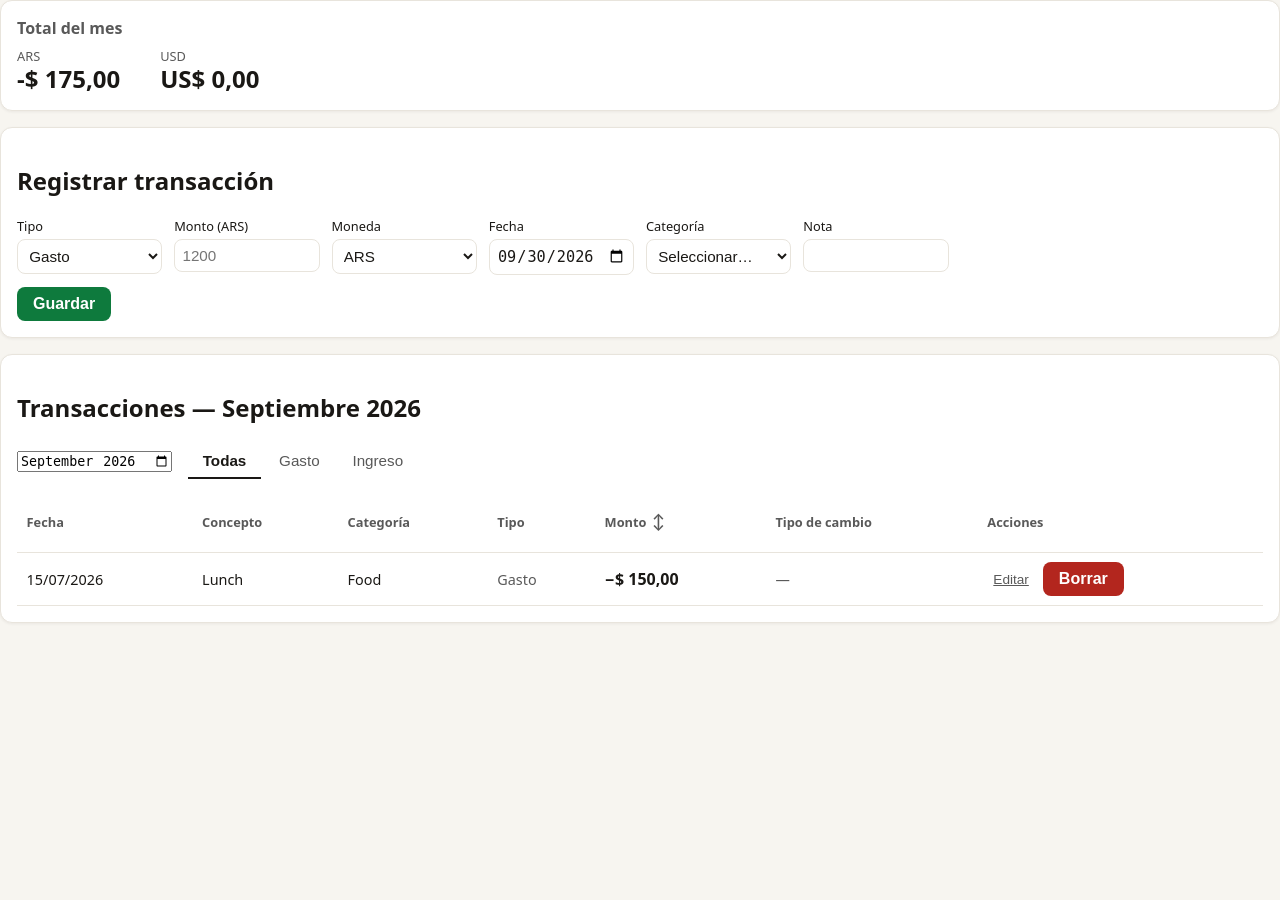
Test: TransactionsPage › adds the created transaction to the list immediately and reloads in the background (ET-1)
The width and height of the screenshot is (1280, 900).
Expected: the text "−$ 150,00" is shown, [605, 568, 679, 590]
In the field with test id "amount": (247, 255) [174, 239, 320, 272], type "25"
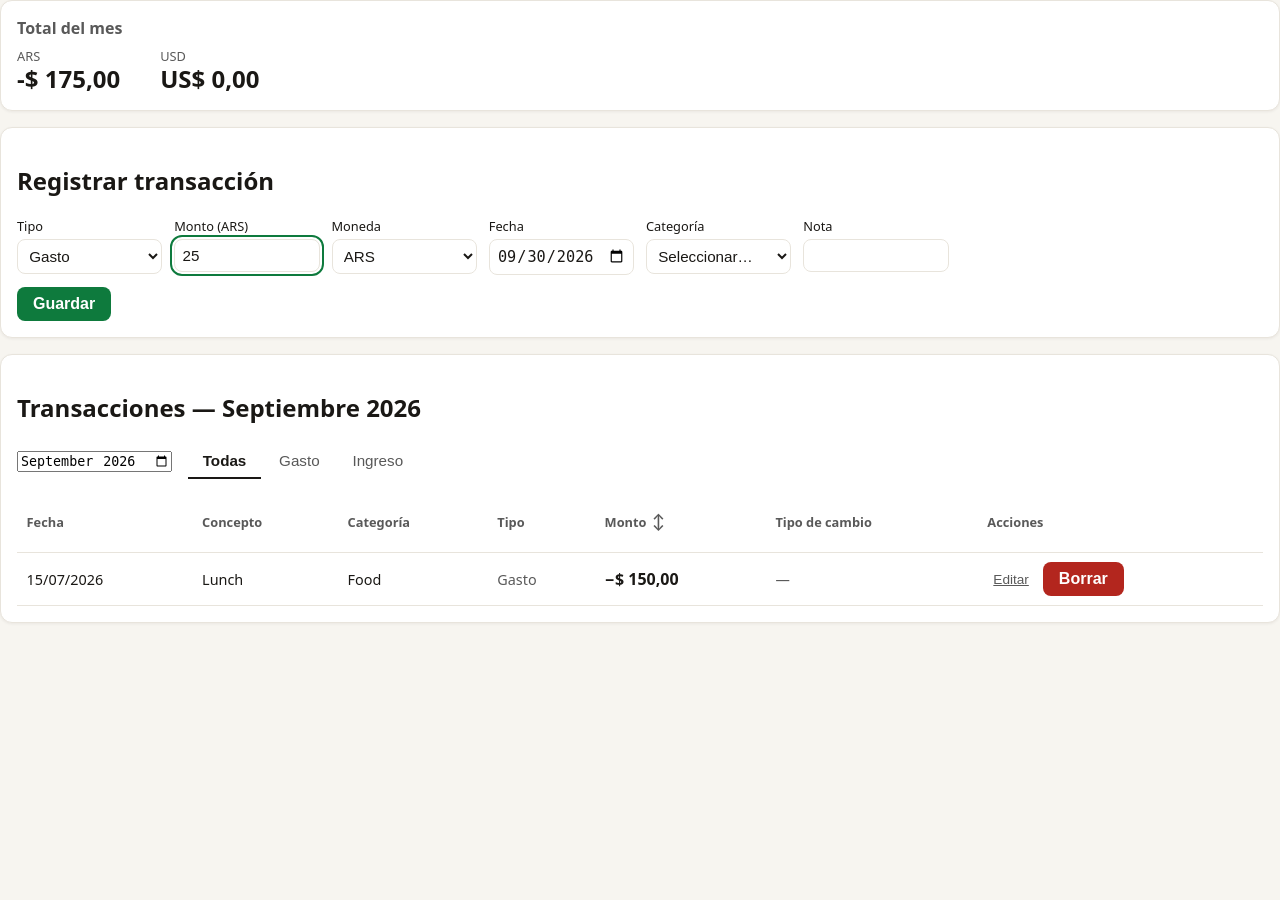
Select "Food" in the dropdown with test id "category": (719, 256) [646, 239, 791, 274]
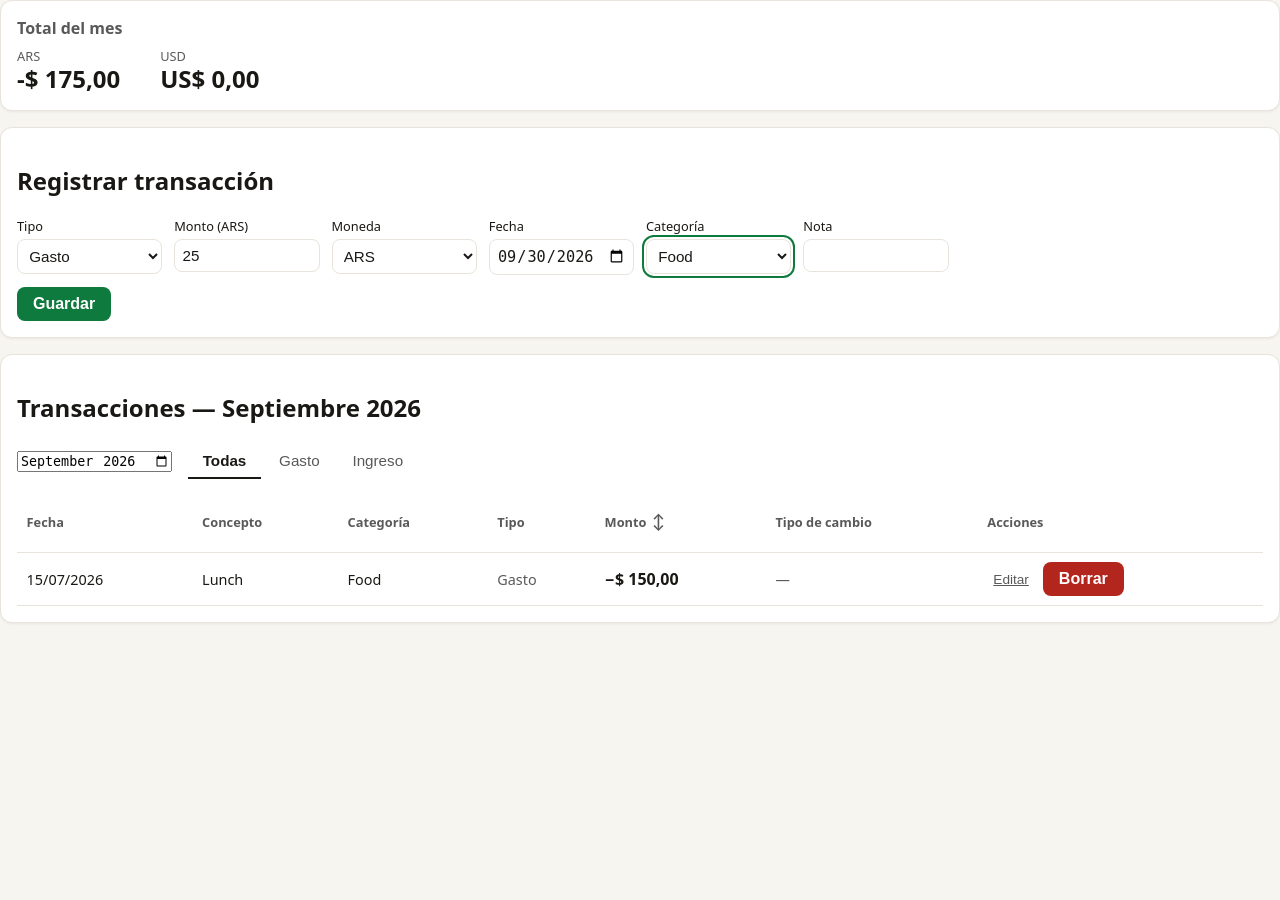
Click the button with test id "submit": (64, 304) [17, 287, 111, 321]
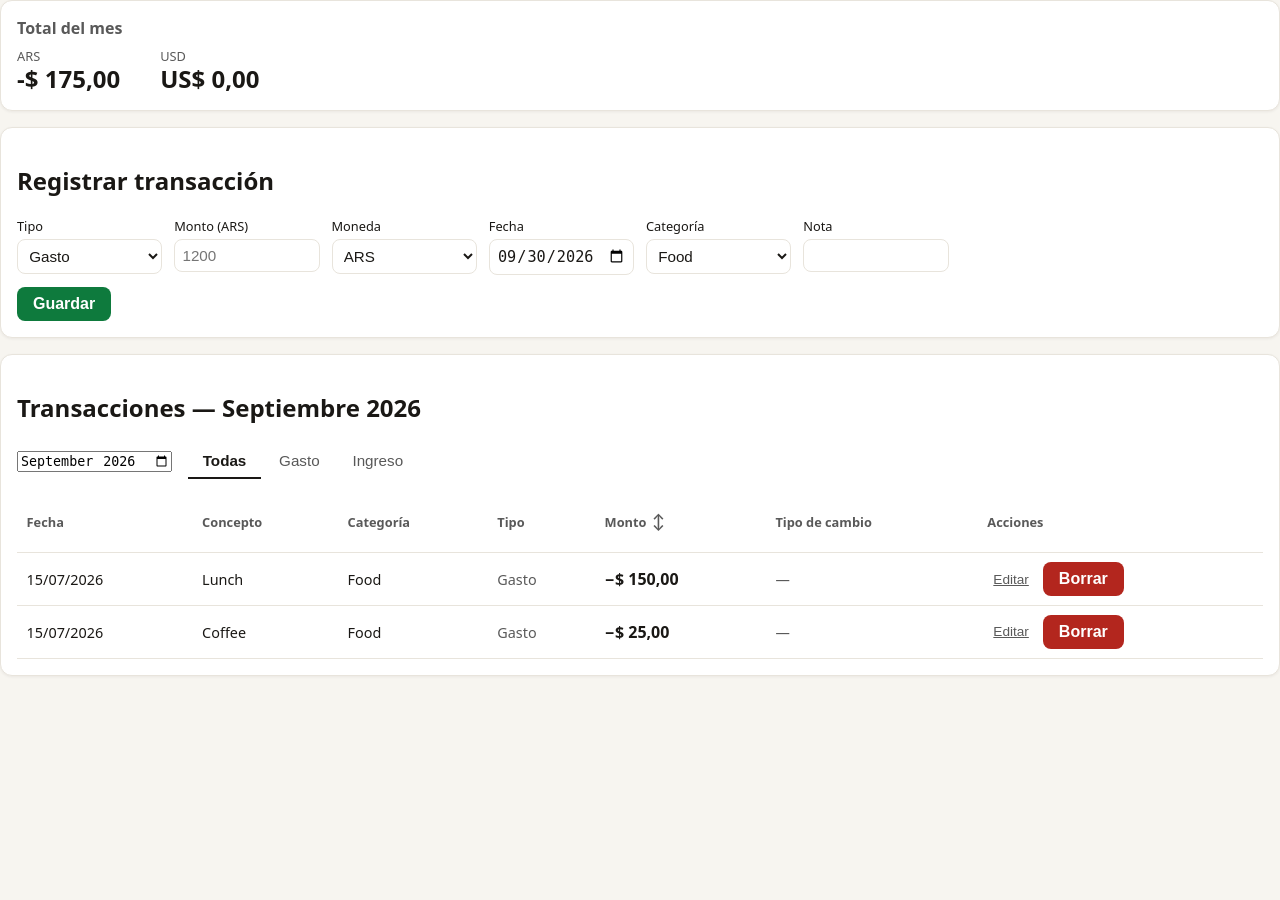
Now the text "−$ 25,00" is shown, box [605, 621, 669, 643]
